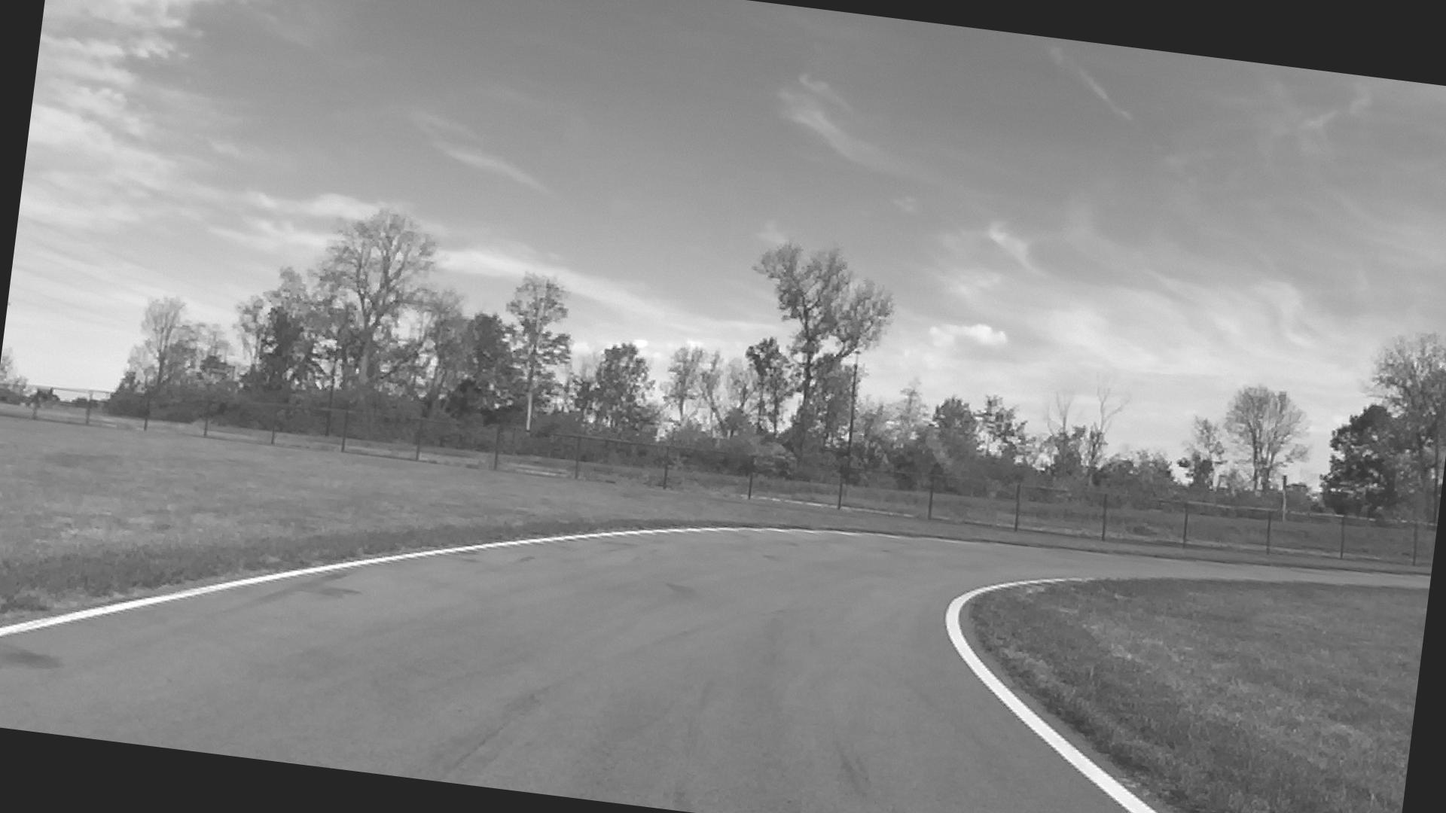white-line: (0, 526, 908, 636), (946, 577, 1163, 813)
